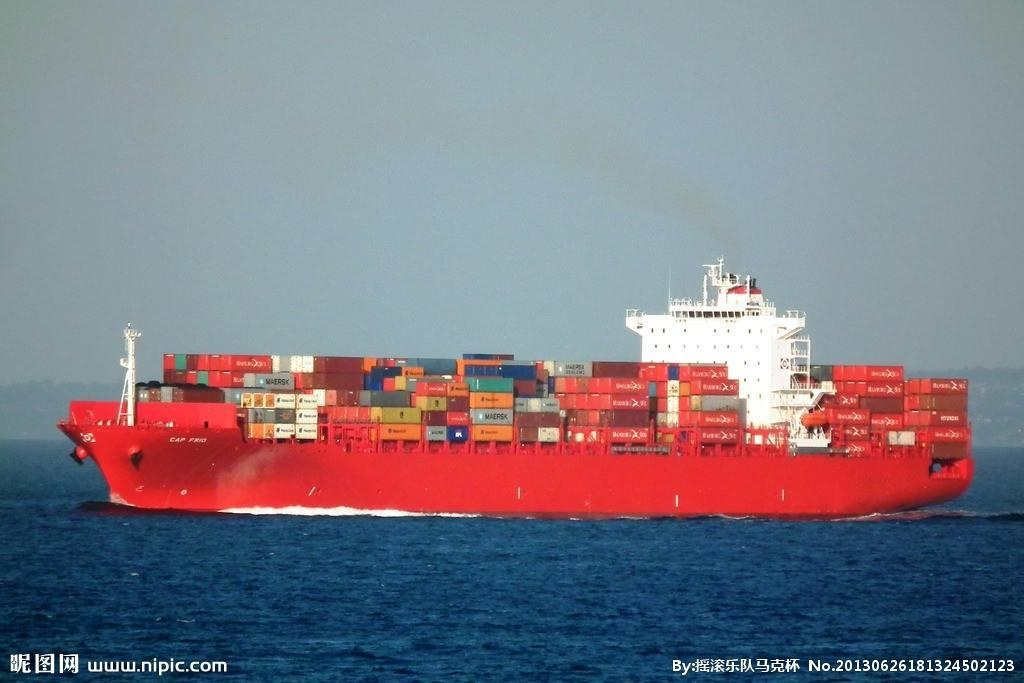Cargoship: (50, 254, 976, 520)
